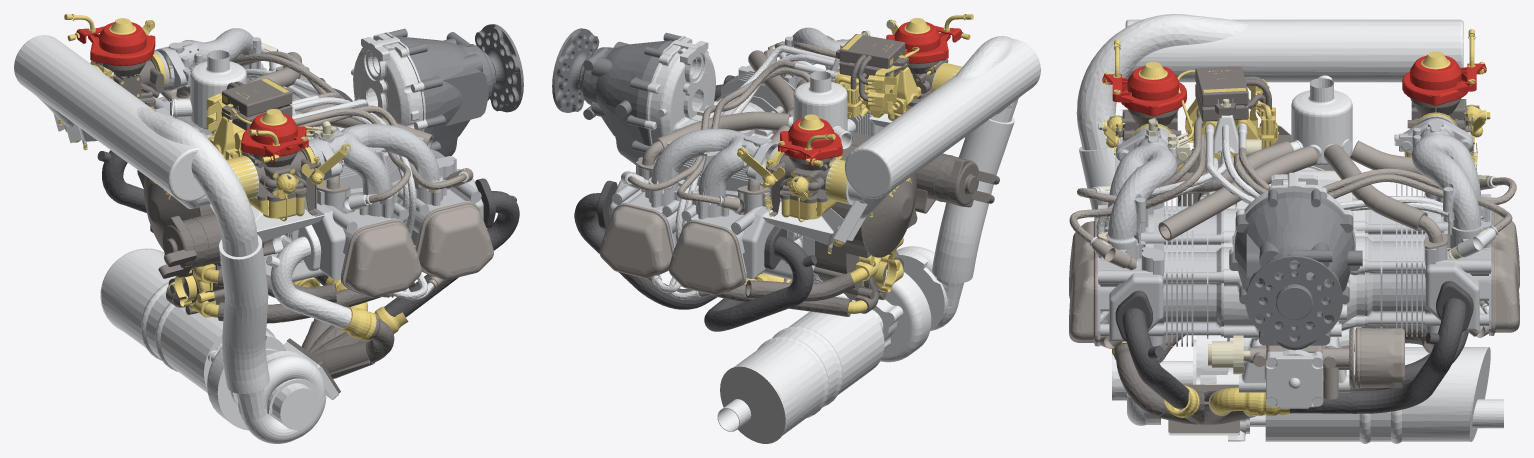
Rendered from rotax_914.glb.
3 views of the same model, side by side, from view 1: azimuth 30°, elevation 25°; view 2: azimuth 150°, elevation 25°; view 3: azimuth 270°, elevation 25° (orthographic). The views are drawn at different scales.
Parts seen in each view (by area): view 1: Rotax914_Turbo_Compressor_6, Rotax914_Turbo_Compressor_15, Rotax914_Turbo_Compressor_7, Rotax914_Prop_Flange.001, Rotax914_Cylinder_Bank_1, Rotax914_Turbo_Compressor_44, Rotax914_Crankcase_Block, Rotax914_Cylinder_Head_3, Rotax914_Plumbing_Exhaust_49, Rotax914_Plumbing_Exhaust_50, Rotax914_Turbo_Compressor_17, Rotax914_Turbo_Turbine_Exhaust_34 (+31 smaller); view 2: Rotax914_Turbo_Compressor_6, Rotax914_Turbo_Compressor_15, Rotax914_Prop_Flange.001, Rotax914_Crankcase_Block, Rotax914_Turbo_Compressor_7, Rotax914_Turbo_Compressor_44, Rotax914_Cylinder_Head_2, Rotax914_Plumbing_Exhaust_51, Rotax914_Plumbing_Exhaust_52, Rotax914_Starter_Motor_10, Rotax914_Cylinder_Head_4, Rotax914_Turbo_Turbine_Exhaust_34 (+27 smaller); view 3: Rotax914_Turbo_Compressor_6, Rotax914_Cylinder_Bank_1, Rotax914_Turbo_Compressor_15, Rotax914_Cylinder_Head_5, Rotax914_Prop_Flange.001, Rotax914_Crankcase_Block, Rotax914_Prop_Flange, Rotax914_Cylinder_Head_2, Rotax914_Starter_Motor_13, Rotax914_Cylinder_Head_3, Rotax914_Turbo_Compressor_8, Rotax914_Starter_Motor_14 (+37 smaller).
Boxes of the visible parts, <box> form: Rotax914_Turbo_Compressor_6: <box>14,35,325,256</box>; Rotax914_Turbo_Compressor_15: <box>100,248,275,392</box>; Rotax914_Turbo_Compressor_7: <box>207,331,338,443</box>; Rotax914_Prop_Flange.001: <box>388,28,495,156</box>; Rotax914_Cylinder_Bank_1: <box>288,149,483,286</box>; Rotax914_Turbo_Compressor_44: <box>219,235,269,393</box>; Rotax914_Crankcase_Block: <box>206,32,427,282</box>; Rotax914_Cylinder_Head_3: <box>297,123,443,205</box>; Rotax914_Plumbing_Exhaust_49: <box>341,219,421,297</box>; Rotax914_Plumbing_Exhaust_50: <box>416,201,493,280</box>; Rotax914_Turbo_Compressor_17: <box>266,225,351,328</box>; Rotax914_Turbo_Turbine_Exhaust_34: <box>158,204,264,278</box>; Rotax914_Turbo_Compressor_6: <box>761,36,1040,248</box>; Rotax914_Turbo_Compressor_15: <box>717,296,896,443</box>; Rotax914_Prop_Flange.001: <box>579,32,681,164</box>; Rotax914_Crankcase_Block: <box>644,36,855,283</box>; Rotax914_Turbo_Compressor_7: <box>835,246,963,362</box>; Rotax914_Turbo_Compressor_44: <box>932,117,1014,283</box>; Rotax914_Cylinder_Head_2: <box>648,128,782,206</box>; Rotax914_Plumbing_Exhaust_51: <box>668,220,745,295</box>; Rotax914_Plumbing_Exhaust_52: <box>599,203,674,278</box>; Rotax914_Starter_Motor_10: <box>704,226,816,331</box>; Rotax914_Cylinder_Head_4: <box>681,168,796,291</box>; Rotax914_Turbo_Turbine_Exhaust_34: <box>914,153,999,213</box>; Rotax914_Turbo_Compressor_6: <box>1076,14,1474,194</box>; Rotax914_Cylinder_Bank_1: <box>1097,193,1223,346</box>; Rotax914_Turbo_Compressor_15: <box>1246,347,1503,443</box>; Rotax914_Cylinder_Head_5: <box>1365,222,1491,336</box>; Rotax914_Prop_Flange.001: <box>1229,189,1362,350</box>; Rotax914_Crankcase_Block: <box>1199,166,1364,392</box>; Rotax914_Prop_Flange: <box>1246,253,1342,344</box>; Rotax914_Cylinder_Head_2: <box>1394,115,1491,238</box>; Rotax914_Starter_Motor_13: <box>1289,281,1473,413</box>; Rotax914_Cylinder_Head_3: <box>1098,126,1190,249</box>; Rotax914_Turbo_Compressor_8: <box>1290,78,1352,165</box>; Rotax914_Starter_Motor_14: <box>1115,290,1189,408</box>.
Bounding box in the file's own units: 662 × 519 × 576.
